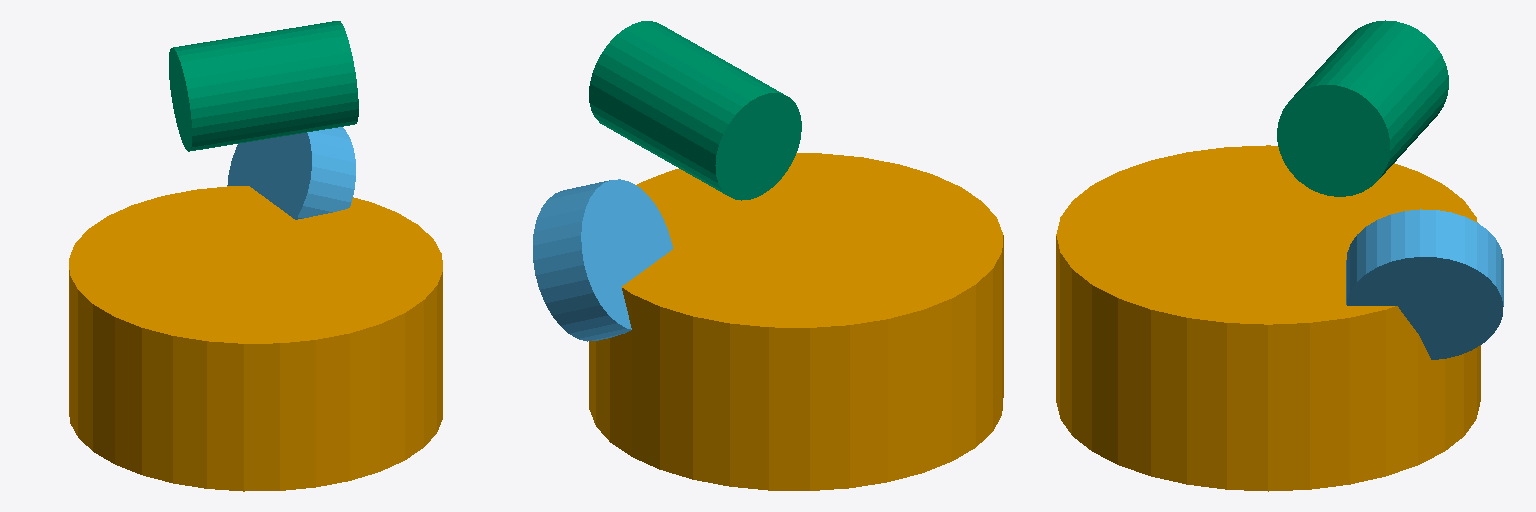
robot.urdf — pepe:
<?xml version="1.0"?><robot name="pepe">
	<link name="0">
		<visual>
			<geometry>
				<cylinder length="0.6564084478039316" radius="0.7564212931887703"/>
			</geometry>
		</visual>
		<collision>
			<geometry>
				<cylinder length="0.6564084478039316" radius="0.7564212931887703"/>
			</geometry>
		</collision>
		<inertial>
			<mass value="1.1799171829958945"/>
			<inertia ixx="0.03" iyy="0.03" izz="0.03" ixy="0" ixz="0" iyx="0"/>
		</inertial>
	</link>
	<link name="11">
		<visual>
			<geometry>
				<cylinder length="0.22458029278200597" radius="0.28112160407444176"/>
			</geometry>
		</visual>
		<collision>
			<geometry>
				<cylinder length="0.22458029278200597" radius="0.28112160407444176"/>
			</geometry>
		</collision>
		<inertial>
			<mass value="0.05575835605967076"/>
			<inertia ixx="0.03" iyy="0.03" izz="0.03" ixy="0" ixz="0" iyx="0"/>
		</inertial>
	</link>
	<link name="22">
		<visual>
			<geometry>
				<cylinder length="0.6888501617099307" radius="0.21254627570448137"/>
			</geometry>
		</visual>
		<collision>
			<geometry>
				<cylinder length="0.6888501617099307" radius="0.21254627570448137"/>
			</geometry>
		</collision>
		<inertial>
			<mass value="0.09776460197075584"/>
			<inertia ixx="0.03" iyy="0.03" izz="0.03" ixy="0" ixz="0" iyx="0"/>
		</inertial>
	</link>
	<joint name="11_to_0" type="revolute">
		<parent link="0"/>
		<child link="11"/>
		<axis xyz="0 0 1"/>
		<limit effort="1" upper="-3.1415" lower="3.1415" velocity="1"/>
		<origin rpy="10.410252862655849 2.3906155151984363 1.1446274652724877" xyz="0.48815185230067804 0.5577554014220211 0.3592930529047639"/>
	</joint>
	<joint name="22_to_0" type="revolute">
		<parent link="0"/>
		<child link="22"/>
		<axis xyz="1 0 0"/>
		<limit effort="1" upper="-3.1415" lower="3.1415" velocity="1"/>
		<origin rpy="14.214528899812851 2.9921759752238684 1.2725719396311717" xyz="0.23070946088005573 0.3372727583056099 0.9325378972382061"/>
	</joint>
</robot>

--- Render facts (derived) ---
The picture shows the robot from 3 angles, left to right: view 1: azimuth 30°, elevation 25°; view 2: azimuth 150°, elevation 25°; view 3: azimuth 270°, elevation 25°; orthographic projection.
Robot: pepe — 3 links, 2 joints (2 revolute); root link 0; default pose: all joints at 0.
Visible links, largest first — view 1: 0, 22, 11; view 2: 0, 22, 11; view 3: 0, 22, 11.
Boxes of the visible links, x1,y1,x2,y2 form: 0: (69,186,442,491); 22: (169,21,358,151); 11: (227,127,355,219); 0: (589,153,1003,490); 22: (589,21,801,200); 11: (533,179,672,341); 0: (1056,145,1480,491); 22: (1277,20,1448,196); 11: (1346,209,1503,359).
Size in the robot's own frame: 1.51 by 1.59 by 1.5 metres.
Geometry: primitives only (box / cylinder / sphere), no mesh files.
